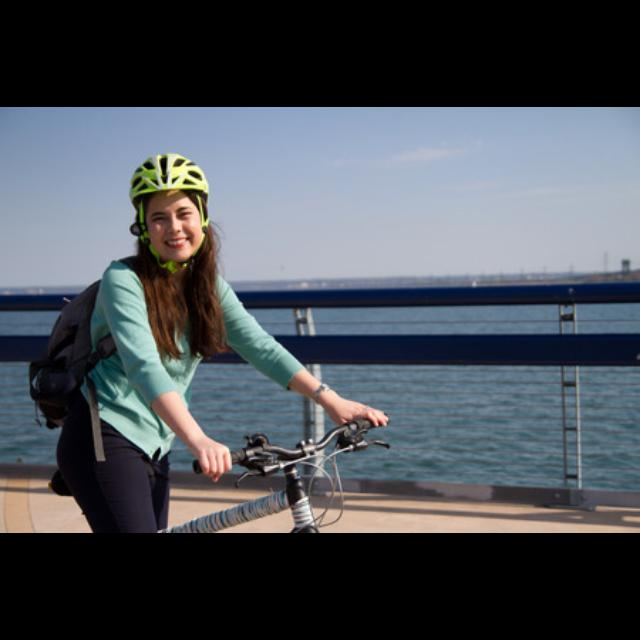With Helmet: (123, 153, 215, 265)
